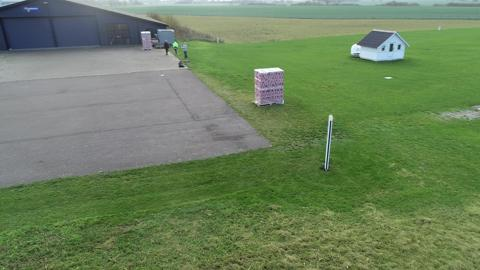RockwoolPallet: (140, 30, 153, 51)
